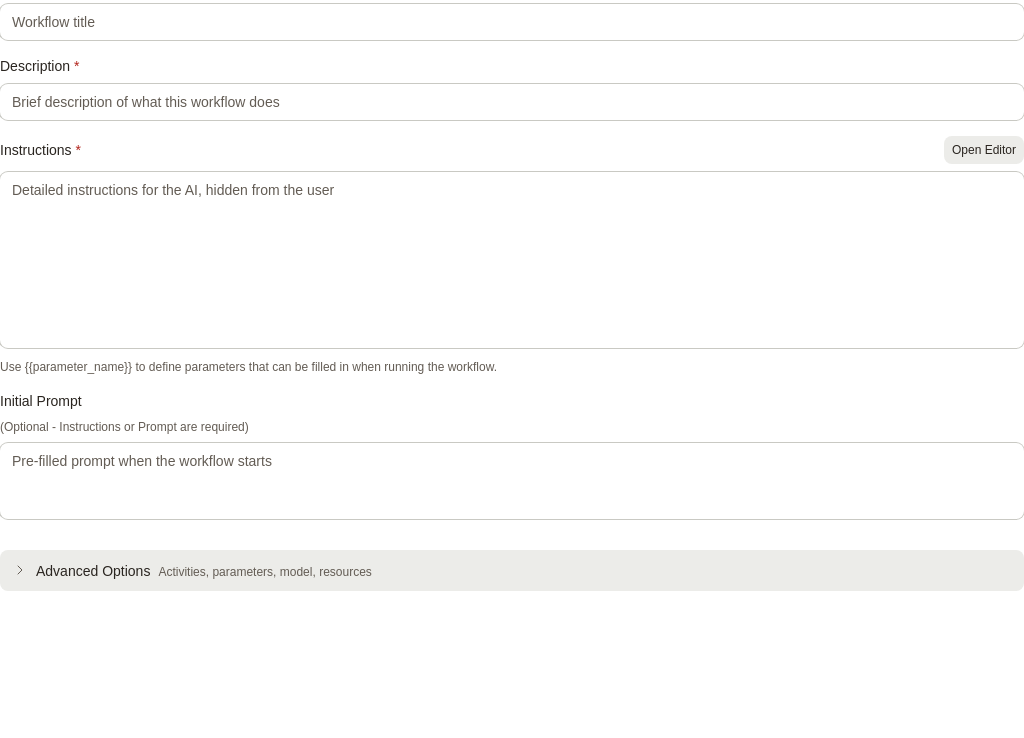
WorkflowFormFields › Parameter Management › allows adding parameters manually
This screenshot has width=1024, height=738.
Click the button "Advanced Options Activities, parameters, model, resources".
click(93, 571)  # box [0, 550, 1023, 591]
(page scrolled)
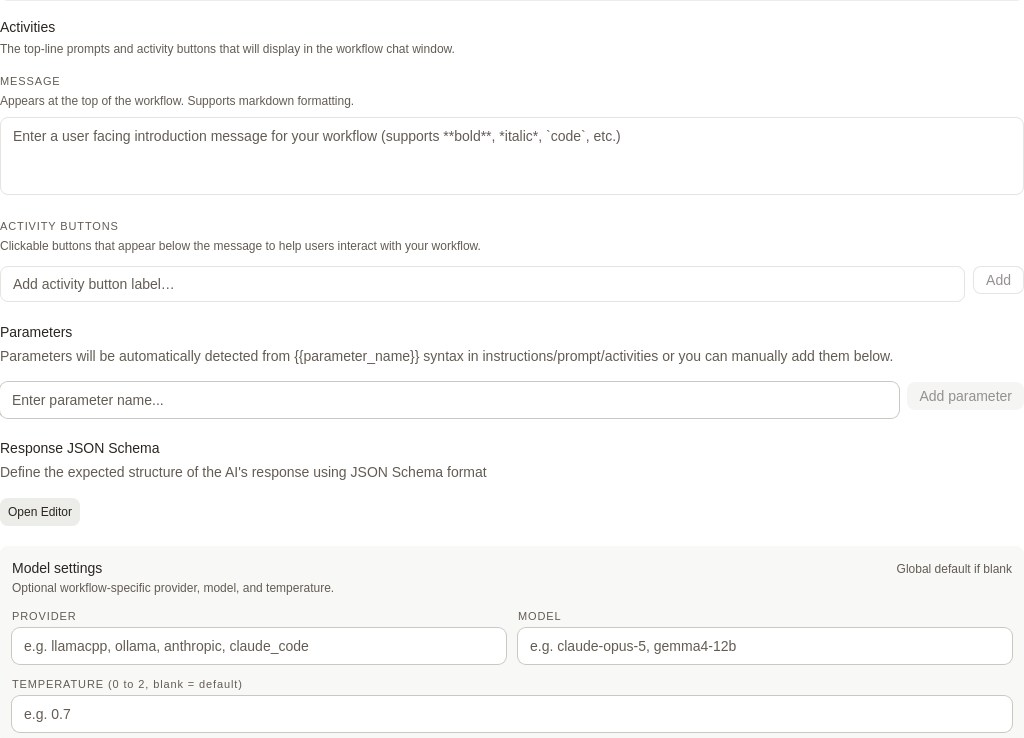
Now the button "Add parameter" is disabled, box [907, 382, 1023, 410]
Type "test_param" into the field with placeholder "Enter parameter name...".
click(450, 400); type("test_param")  # box [0, 382, 899, 418]
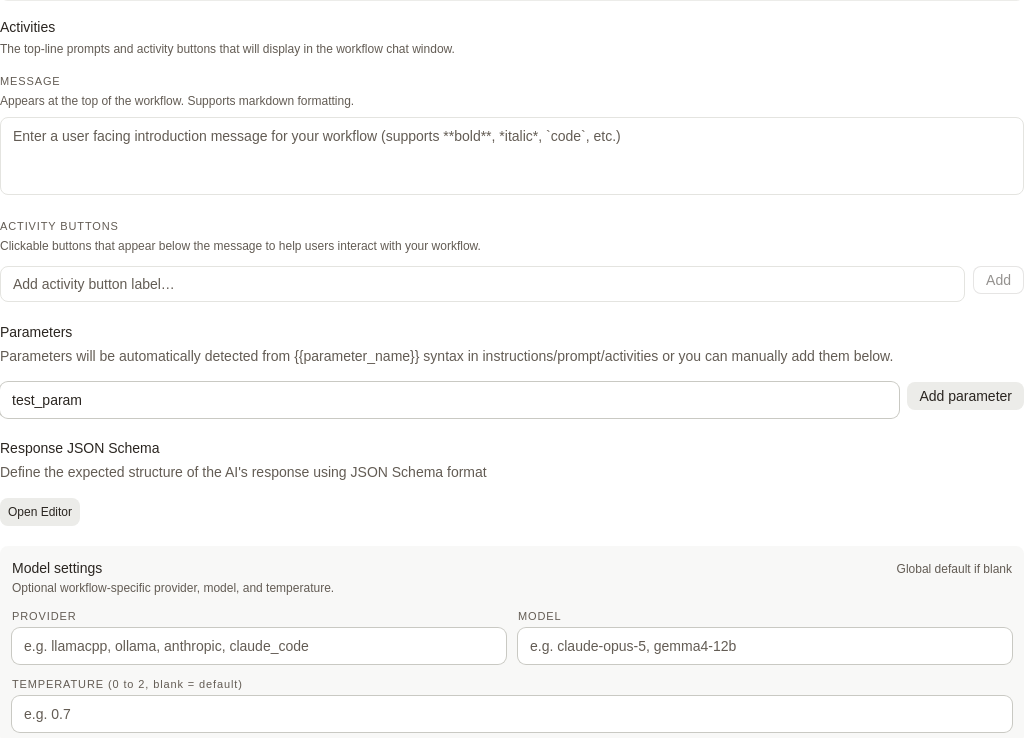
Now the button "Add parameter" is enabled
Click the button "Add parameter".
click(966, 396)  # box [907, 382, 1023, 410]
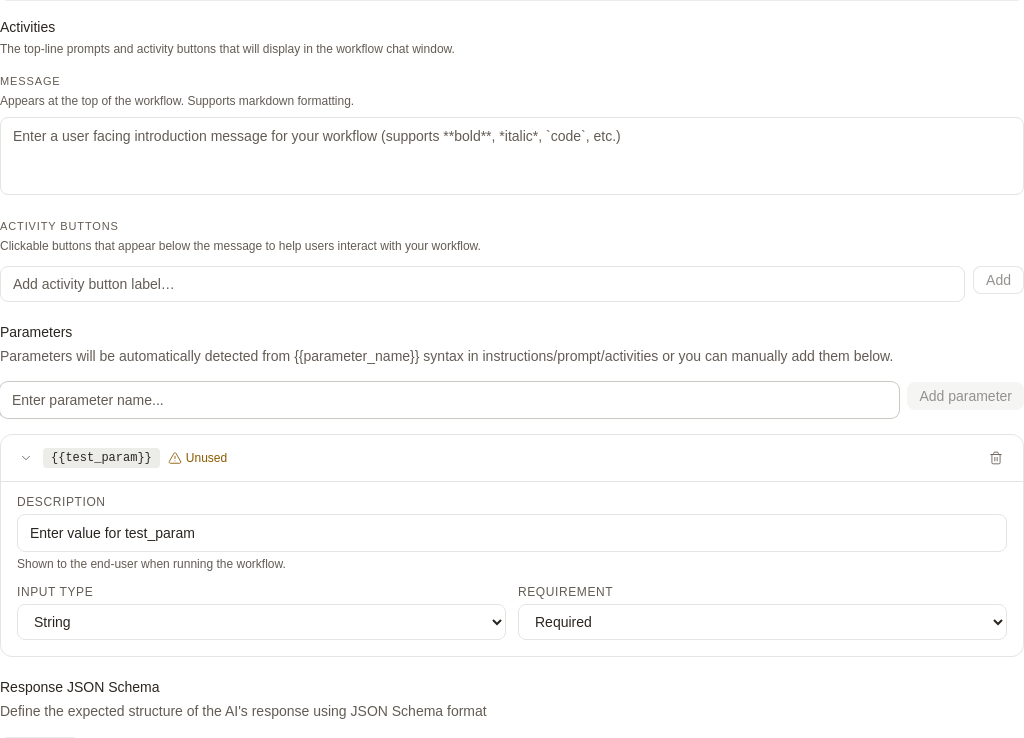
Now the text "test_param" is shown, box [65, 451, 137, 465]
Now the field with placeholder "Enter parameter name..." is empty, box [0, 382, 899, 418]
Now the button "Add parameter" is disabled, box [907, 382, 1023, 410]
